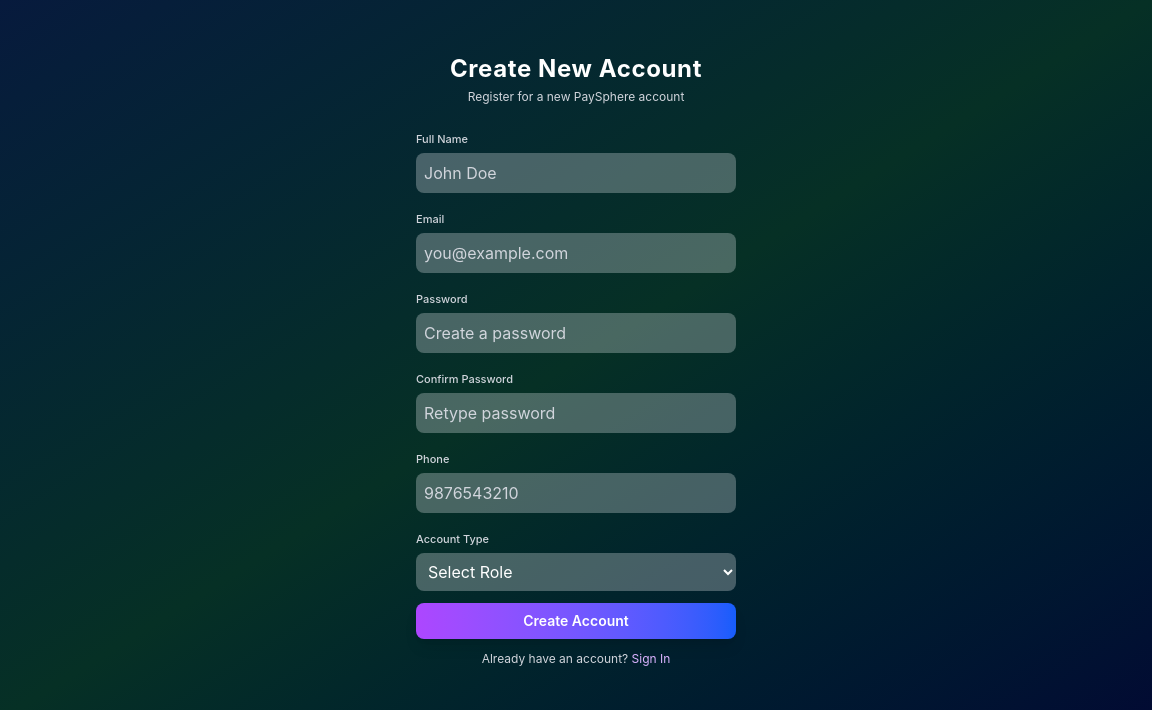
Test case: shows validation errors when all fields are empty
This screenshot has width=1152, height=710.
What coordinates should you click on to do the following:
click the button "Create Account"
I would click on:
 (576, 621)
Its box is [416, 603, 736, 639].
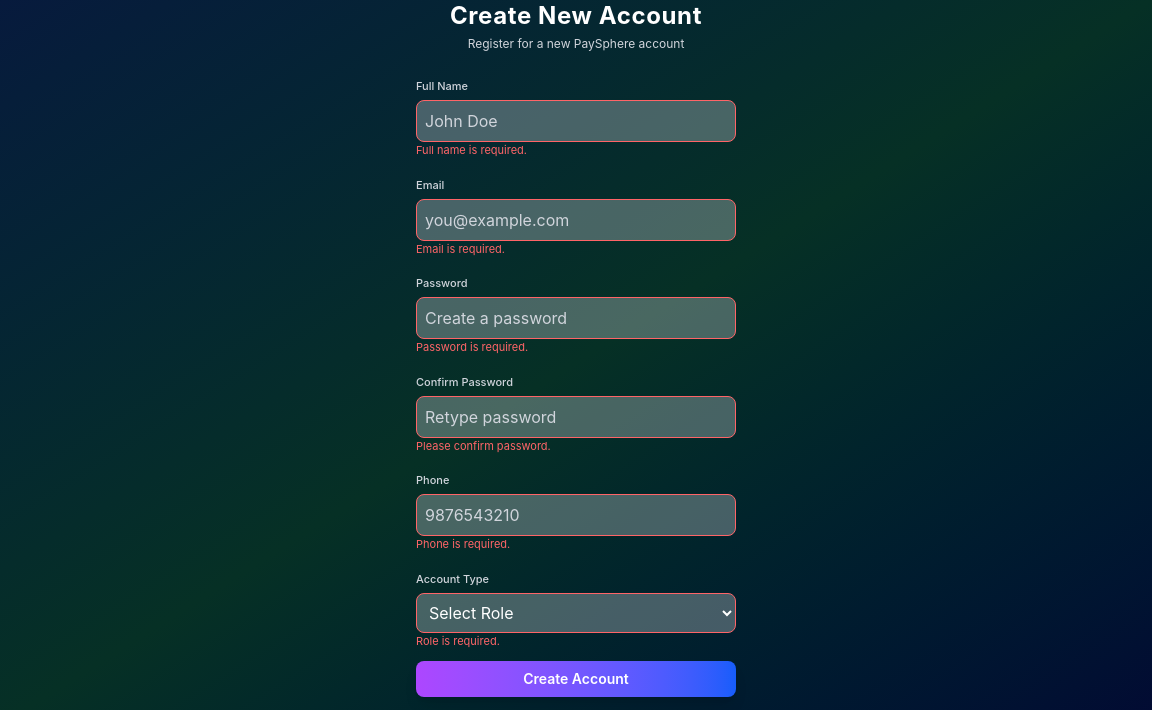
Now the text "Full name is required." is shown, box [416, 143, 527, 157]
Now the text "Email is required." is shown, box [416, 242, 505, 256]
Now the text "Password is required." is shown, box [416, 340, 528, 354]
